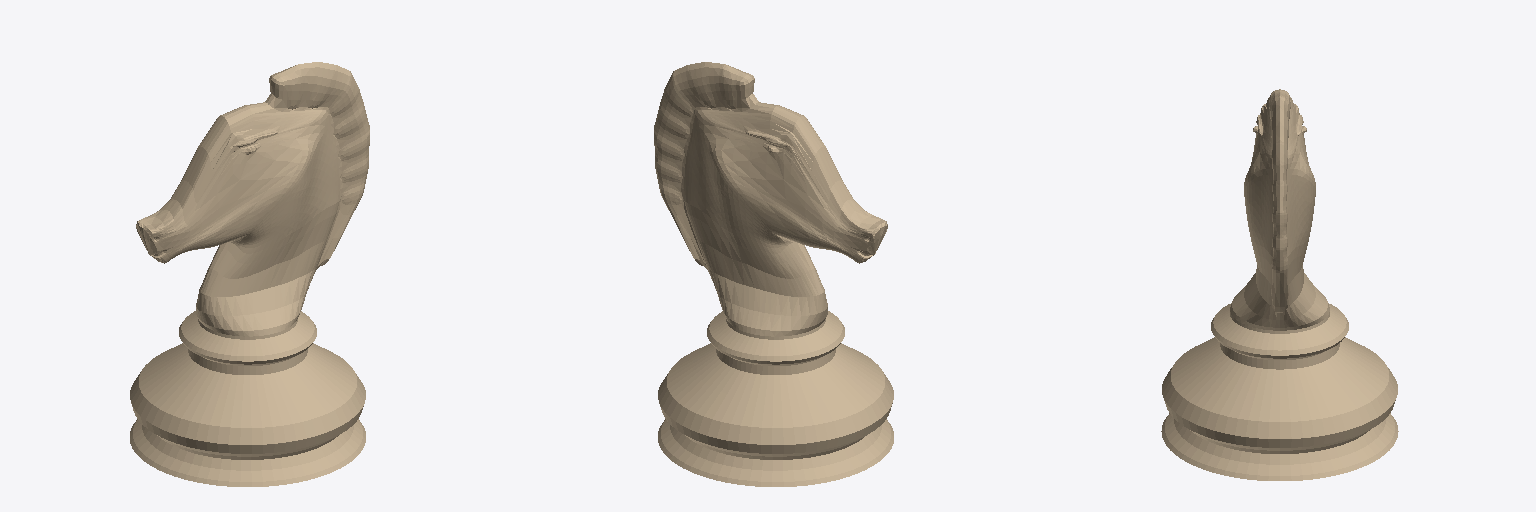
Rendered from white-knight.obj.
3 views of the same model, side by side, from view 1: azimuth 30°, elevation 25°; view 2: azimuth 150°, elevation 25°; view 3: azimuth 270°, elevation 25° (orthographic).
Visible parts, largest first — view 1: Knight.002_Circle.030; view 2: Knight.002_Circle.030; view 3: Knight.002_Circle.030.
Part boxes in pixels (left/top/right/bottom): Knight.002_Circle.030: left=130, top=62, right=369, bottom=486; Knight.002_Circle.030: left=654, top=62, right=893, bottom=486; Knight.002_Circle.030: left=1161, top=89, right=1398, bottom=480.
Bounding box in the file's own units: 1.5 × 2.27 × 1.35.